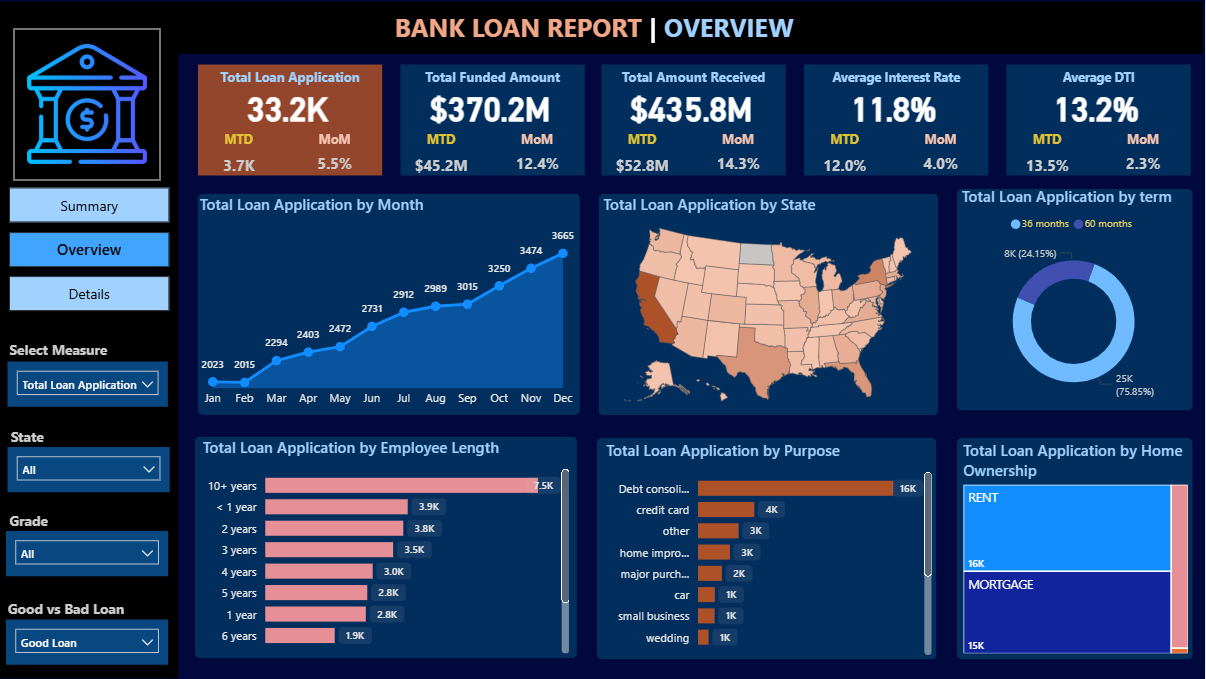

The dashboard page shown, as its layout file describes it:
{"tool":"powerbi","page":{"name":"Overview","canvas":[1280,720],"ordinal":1},"visuals":[{"type":"shape","box":[0,1.6,1278.9,55.7],"z":0},{"type":"shape","box":[0,54.8,192,665.2],"z":500},{"type":"textbox","box":[416.7,5,446.7,50],"z":2000},{"type":"group","id":"g1","title":"Group 1","box":[210,66.2,198.8,130.4],"z":3000},{"type":"shape","box":[213.2,67.8,195.6,117.7],"z":3000,"group":"g1"},{"type":"shape","box":[427.9,67.8,195.6,117.7],"z":3000,"group":"g2"},{"type":"shape","box":[641,67.8,195.6,117.7],"z":3000,"group":"g3"},{"type":"shape","box":[855.8,67.8,195.6,117.7],"z":3000,"group":"g4"},{"type":"shape","box":[1070.5,67.8,195.6,117.7],"z":3000,"group":"g5"},{"type":"group","id":"g2","title":"Group 1","box":[424.7,66.2,197.2,130.4],"z":4000},{"type":"card","fields":{"Values":["bank_loan_data.Total Loan Application"]},"box":[210,74.2,195.6,74.8],"z":4000,"group":"g1"},{"type":"card","fields":{"Values":["bank_loan_data.Total Funded Amount"]},"box":[424.7,74.2,195.6,74.8],"z":4000,"group":"g2"},{"type":"card","fields":{"Values":["bank_loan_data.Total Amount Received"]},"box":[637.8,74.2,195.6,74.8],"z":4000,"group":"g3"},{"type":"card","fields":{"Values":["bank_loan_data.Avg Interest Rate"]},"box":[852.6,74.2,195.6,74.8],"z":4000,"group":"g4"},{"type":"card","fields":{"Values":["bank_loan_data.Avg DTI"]},"box":[1067.3,74.2,195.6,74.8],"z":4000,"group":"g5"},{"type":"textbox","box":[213.2,66.2,195.6,35],"z":5000,"group":"g1"},{"type":"textbox","box":[427.9,66.2,195.6,35],"z":5000,"group":"g2"},{"type":"textbox","box":[641,66.2,195.6,35],"z":5000,"group":"g3"},{"type":"textbox","box":[855.8,66.2,195.6,35],"z":5000,"group":"g4"},{"type":"textbox","box":[1070.5,66.2,195.6,35],"z":5000,"group":"g5"},{"type":"shape","box":[213.1,205.2,405,235],"z":5000},{"type":"group","id":"g3","title":"Group 1","box":[637.8,66.2,198.8,130.4],"z":6000},{"type":"card","title":"MTD","fields":{"Values":["bank_loan_data.MTD Loan Application"]},"box":[218,137.8,76.3,58.9],"z":6000,"group":"g1"},{"type":"card","title":"MTD","fields":{"Values":["bank_loan_data.MTD Funded Amount"]},"box":[432.7,137.8,76.3,58.9],"z":6000,"group":"g2"},{"type":"card","title":"MTD","fields":{"Values":["bank_loan_data.MTD Total Amount Recieved"]},"box":[645.8,137.8,76.3,58.9],"z":6000,"group":"g3"},{"type":"card","title":"MTD","fields":{"Values":["bank_loan_data.MTD Avg Int Rate"]},"box":[860.6,137.8,76.3,58.9],"z":6000,"group":"g4"},{"type":"card","title":"MTD","fields":{"Values":["bank_loan_data.MTD Avg DTI"]},"box":[1075.3,137.8,76.3,58.9],"z":6000,"group":"g5"},{"type":"group","id":"g4","title":"Group 1","box":[852.6,66.2,198.8,130.4],"z":7000},{"type":"card","title":"MoM","fields":{"Values":["bank_loan_data.MoM Loan Application"]},"box":[319.8,137.8,76.3,55.7],"z":7000,"group":"g1"},{"type":"card","title":"MoM","fields":{"Values":["bank_loan_data.MoM Total Funded Amount"]},"box":[534.5,137.8,76.3,55.7],"z":7000,"group":"g2"},{"type":"card","title":"MoM","fields":{"Values":["bank_loan_data.MoM Total Amount Recieved"]},"box":[747.6,137.8,76.3,55.7],"z":7000,"group":"g3"},{"type":"card","title":"MoM","fields":{"Values":["bank_loan_data.MoM Avg Int Rate"]},"box":[962.4,137.8,76.3,55.7],"z":7000,"group":"g4"},{"type":"card","title":"MoM","fields":{"Values":["bank_loan_data.MoM Avg DTI"]},"box":[1177.1,137.8,76.3,55.7],"z":7000,"group":"g5"},{"type":"group","id":"g5","title":"Group 1","box":[1067.3,66.2,197.2,130.4],"z":8000},{"type":"slicer","fields":{"Values":["bank_loan_data.address_state"]},"box":[11.1,474,171.8,47.7],"z":9000},{"type":"textbox","box":[9.5,447,60.4,31.8],"z":10000},{"type":"slicer","fields":{"Values":["bank_loan_data.grade"]},"box":[9.5,563.1,171.8,47.7],"z":11000},{"type":"textbox","box":[8,536,60.4,31.8],"z":12000},{"type":"slicer","fields":{"Values":["bank_loan_data.Good vs Bad Loan"]},"box":[9.5,656.9,171.8,47.7],"z":13000},{"type":"textbox","box":[6.4,629.9,141.6,31.8],"z":14000},{"type":"areaChart","fields":{"Y":["bank_loan_data.Total Loan Application"],"Category":["Date Table.Month"]},"box":[210,205,408.3,235],"z":15000},{"type":"slicer","fields":{"Values":["Select Measure.Select Measure"]},"box":[11.1,383.3,170.2,47.7],"z":16000},{"type":"textbox","box":[8,354.7,140,31.8],"z":17000},{"type":"shape","box":[638.2,205.2,360,235.4],"z":18000},{"type":"shapeMap","fields":{"Value":["bank_loan_data.Total Loan Application"],"Category":["bank_loan_data.address_state"]},"box":[638.3,205,358.3,235],"z":19000},{"type":"shape","box":[1018.3,200,250,235],"z":20000},{"type":"donutChart","fields":{"Y":["bank_loan_data.Total Loan Application"],"Category":["bank_loan_data.term"]},"box":[1018.3,196.7,246.7,238.3],"z":21000},{"type":"shape","box":[210,463.3,405,235],"z":22000},{"type":"barChart","fields":{"Y":["bank_loan_data.Total Loan Application"],"Category":["bank_loan_data.emp_length"]},"box":[213.3,463.3,398.3,235],"z":23000},{"type":"shape","box":[636.7,464.2,360,235],"z":24000},{"type":"shape","box":[1018.3,465,250,235],"z":25000},{"type":"barChart","fields":{"Y":["bank_loan_data.Total Loan Application"],"Category":["bank_loan_data.purpose"]},"box":[641.7,466.7,355,233.3],"z":26000},{"type":"treemap","fields":{"Values":["bank_loan_data.Total Loan Application"],"Group":["bank_loan_data.home_ownership"]},"box":[1020,466.7,248.3,231.7],"z":27000},{"type":"image","box":[17.5,30.2,155.9,160.7],"z":28000},{"type":"pageNavigator","box":[12.7,198.8,170.2,132],"z":29000}]}

Visuals, with their boxes in screenshot pixels (x1, y1, x2, y2), scaled from the page's 1280x720 canvas onto the 1206x679 screenshot:
shape: [x1=0, y1=2, x2=1205, y2=54]
shape: [x1=0, y1=52, x2=181, y2=678]
textbox: [x1=393, y1=5, x2=813, y2=52]
"Group 1" group: [x1=198, y1=62, x2=385, y2=185]
shape: [x1=201, y1=64, x2=385, y2=175]
shape: [x1=403, y1=64, x2=587, y2=175]
shape: [x1=604, y1=64, x2=788, y2=175]
shape: [x1=806, y1=64, x2=991, y2=175]
shape: [x1=1009, y1=64, x2=1193, y2=175]
"Group 1" group: [x1=400, y1=62, x2=586, y2=185]
card - bank_loan_data.Total Loan Application: [x1=198, y1=70, x2=382, y2=141]
card - bank_loan_data.Total Funded Amount: [x1=400, y1=70, x2=584, y2=141]
card - bank_loan_data.Total Amount Received: [x1=601, y1=70, x2=785, y2=141]
card - bank_loan_data.Avg Interest Rate: [x1=803, y1=70, x2=988, y2=141]
card - bank_loan_data.Avg DTI: [x1=1006, y1=70, x2=1190, y2=141]
textbox: [x1=201, y1=62, x2=385, y2=95]
textbox: [x1=403, y1=62, x2=587, y2=95]
textbox: [x1=604, y1=62, x2=788, y2=95]
textbox: [x1=806, y1=62, x2=991, y2=95]
textbox: [x1=1009, y1=62, x2=1193, y2=95]
shape: [x1=201, y1=194, x2=582, y2=415]
"Group 1" group: [x1=601, y1=62, x2=788, y2=185]
"MTD" card: [x1=205, y1=130, x2=277, y2=185]
"MTD" card: [x1=408, y1=130, x2=480, y2=185]
"MTD" card: [x1=608, y1=130, x2=680, y2=185]
"MTD" card: [x1=811, y1=130, x2=883, y2=185]
"MTD" card: [x1=1013, y1=130, x2=1085, y2=185]
"Group 1" group: [x1=803, y1=62, x2=991, y2=185]
"MoM" card: [x1=301, y1=130, x2=373, y2=182]
"MoM" card: [x1=504, y1=130, x2=575, y2=182]
"MoM" card: [x1=704, y1=130, x2=776, y2=182]
"MoM" card: [x1=907, y1=130, x2=979, y2=182]
"MoM" card: [x1=1109, y1=130, x2=1181, y2=182]
"Group 1" group: [x1=1006, y1=62, x2=1191, y2=185]
slicer - bank_loan_data.address_state: [x1=10, y1=447, x2=172, y2=492]
textbox: [x1=9, y1=422, x2=66, y2=452]
slicer - bank_loan_data.grade: [x1=9, y1=531, x2=171, y2=576]
textbox: [x1=8, y1=505, x2=64, y2=535]
slicer - bank_loan_data.Good vs Bad Loan: [x1=9, y1=619, x2=171, y2=664]
textbox: [x1=6, y1=594, x2=139, y2=624]
areaChart - bank_loan_data.Total Loan Application x Date Table.Month: [x1=198, y1=193, x2=583, y2=415]
slicer - Select Measure.Select Measure: [x1=10, y1=361, x2=171, y2=406]
textbox: [x1=8, y1=335, x2=139, y2=364]
shape: [x1=601, y1=194, x2=940, y2=416]
shapeMap - bank_loan_data.Total Loan Application x bank_loan_data.address_state: [x1=601, y1=193, x2=939, y2=415]
shape: [x1=959, y1=189, x2=1195, y2=410]
donutChart - bank_loan_data.Total Loan Application x bank_loan_data.term: [x1=959, y1=185, x2=1192, y2=410]
shape: [x1=198, y1=437, x2=579, y2=659]
barChart - bank_loan_data.Total Loan Application x bank_loan_data.emp_length: [x1=201, y1=437, x2=576, y2=659]
shape: [x1=600, y1=438, x2=939, y2=659]
shape: [x1=959, y1=439, x2=1195, y2=660]
barChart - bank_loan_data.Total Loan Application x bank_loan_data.purpose: [x1=605, y1=440, x2=939, y2=660]
treemap - bank_loan_data.Total Loan Application x bank_loan_data.home_ownership: [x1=961, y1=440, x2=1195, y2=659]
image: [x1=16, y1=28, x2=163, y2=180]
pageNavigator: [x1=12, y1=187, x2=172, y2=312]
